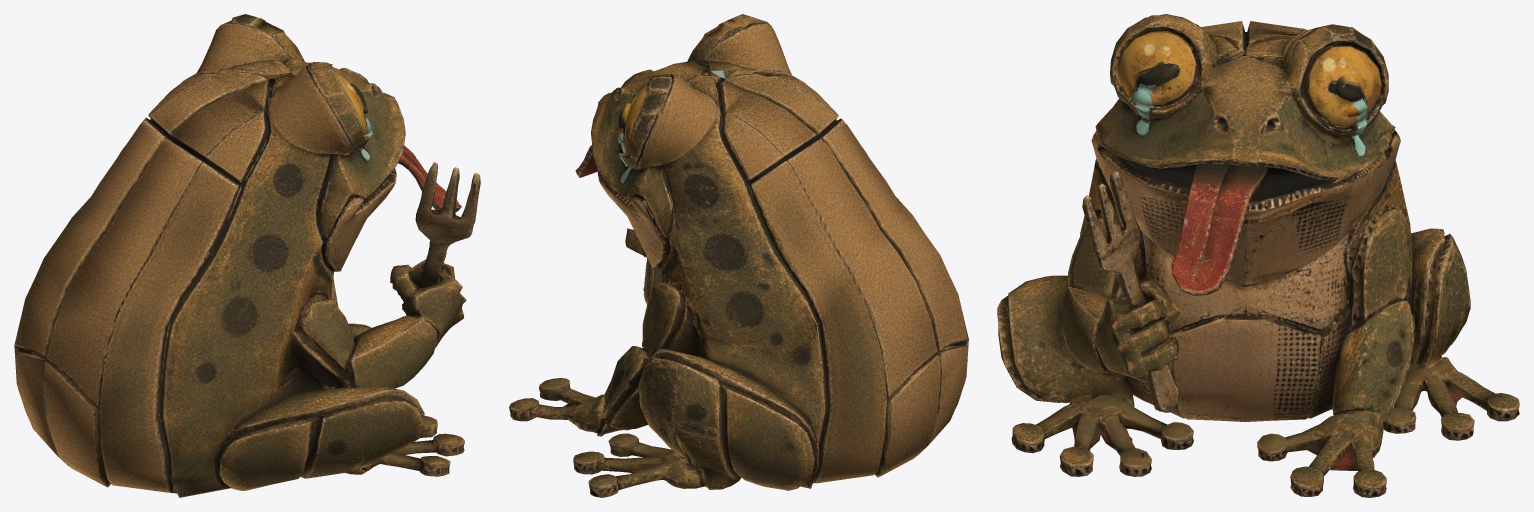
3 views of the same model, side by side, from view 1: azimuth 30°, elevation 25°; view 2: azimuth 150°, elevation 25°; view 3: azimuth 270°, elevation 25° (orthographic). The views are drawn at different scales.
Parts seen in each view (by area): view 1: tripo_node_0e969184-4985-4222-881f-06ce3652de53; view 2: tripo_node_0e969184-4985-4222-881f-06ce3652de53; view 3: tripo_node_0e969184-4985-4222-881f-06ce3652de53.
Part boxes in pixels (bbox=[...]): tripo_node_0e969184-4985-4222-881f-06ce3652de53: bbox=[14, 14, 480, 497]; tripo_node_0e969184-4985-4222-881f-06ce3652de53: bbox=[509, 14, 968, 497]; tripo_node_0e969184-4985-4222-881f-06ce3652de53: bbox=[997, 14, 1519, 497].
Bounding box in the file's own units: 0.9267 × 0.8423 × 0.9785.
Materials: 1 (1 with a texture image).
